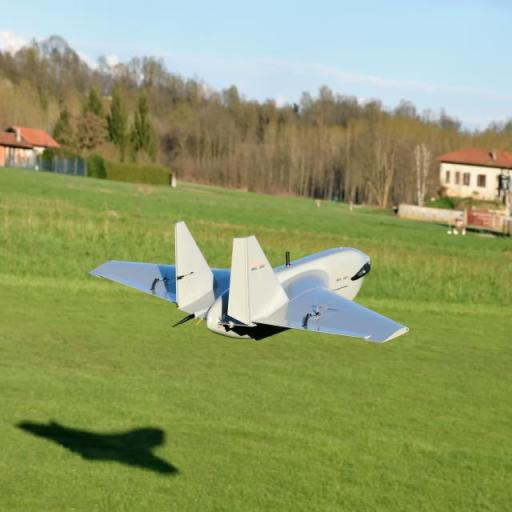uav: (82, 206, 418, 392)
